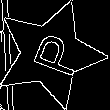P_W: (19, 27, 81, 81)
